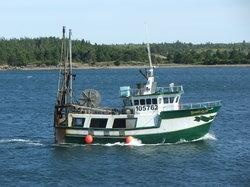otherboat: (51, 42, 225, 148)
